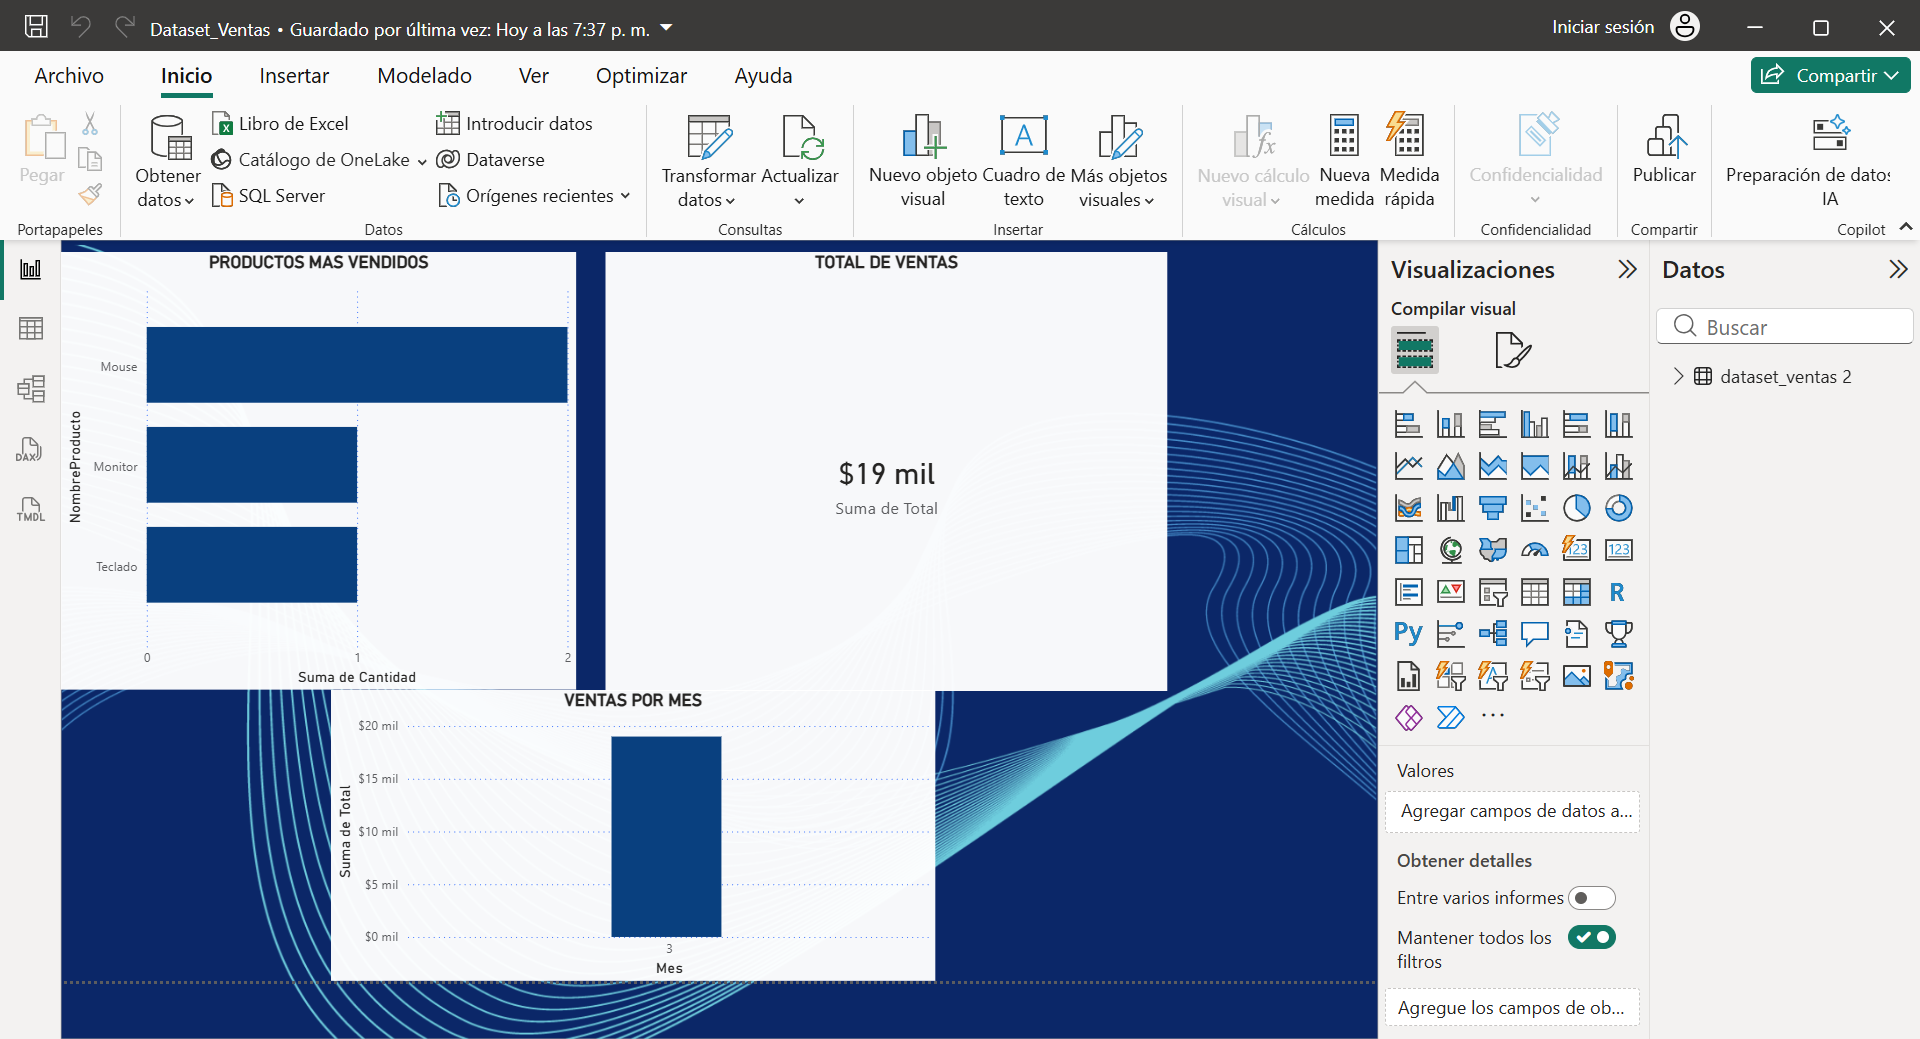

The page's visual inventory and layout, read from the dashboard file:
{"tool":"powerbi","page":{"name":"Página 1","canvas":[1280,720],"ordinal":0},"visuals":[{"type":"barChart","title":"PRODUCTOS MAS VENDIDOS","fields":{"Category":["dataset_ventas 2.NombreProducto"],"Y":["Sum(dataset_ventas 2.Cantidad)"]},"box":[0,12.4,500.9,425.4],"z":0},{"type":"card","title":"TOTAL DE VENTAS","fields":{"Values":["Sum(dataset_ventas 2.Total)"]},"box":[529.7,11,546.2,426.8],"z":1000},{"type":"columnChart","title":"VENTAS POR MES","fields":{"Category":["dataset_ventas 2.Mes"],"Y":["Sum(dataset_ventas 2.Total)"]},"box":[262.1,437.8,587.4,282.7],"z":2501}]}

Visuals, with their boxes on the page's 1280x720 design canvas (x1, y1, x2, y2). These are canvas units, not pixel positions in the 1920x1039 screenshot, which may show the page scaled, cropped or inside an application window:
"PRODUCTOS MAS VENDIDOS" barChart: [0, 12, 501, 438]
"TOTAL DE VENTAS" card: [530, 11, 1076, 438]
"VENTAS POR MES" columnChart: [262, 438, 850, 720]
